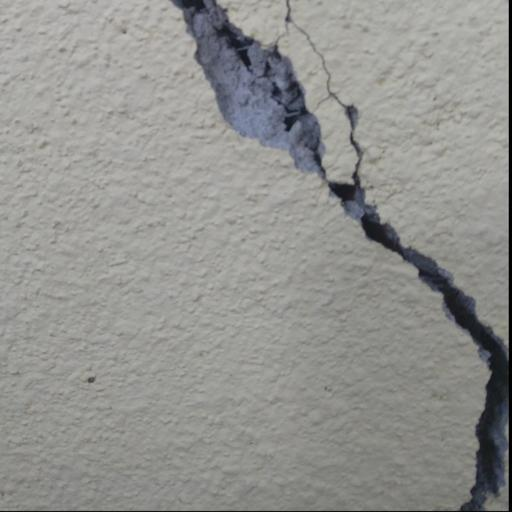major_crack: (158, 0, 509, 512)
